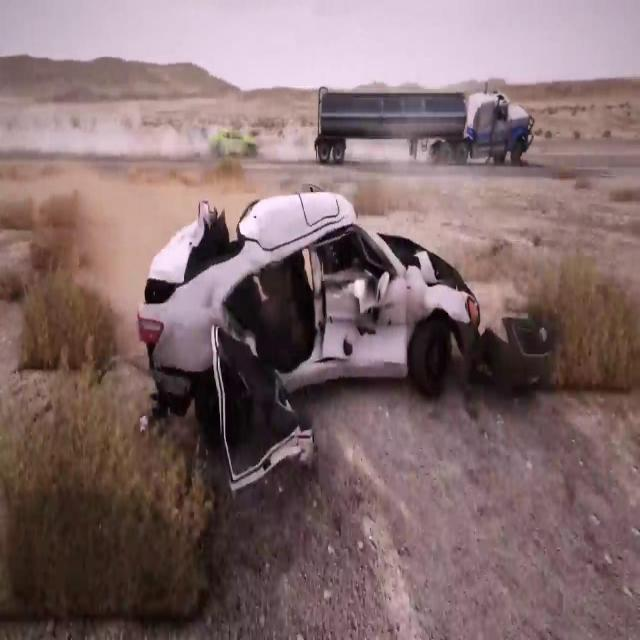accident: (133, 189, 487, 497)
